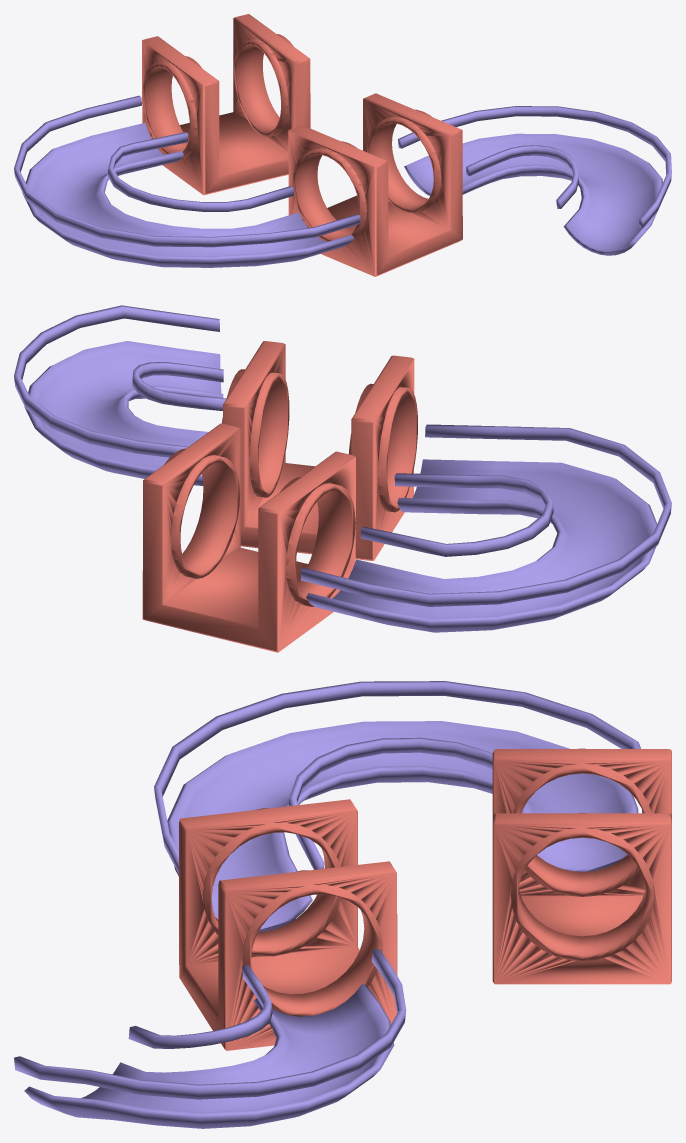
File: scen_III_spir_kostka+sciazka-modul.fbx
The picture shows the model from 3 angles, top to bottom: view 1: azimuth 30°, elevation 25°; view 2: azimuth 150°, elevation 25°; view 3: azimuth 270°, elevation 25°; orthographic projection. The views are drawn at different scales.
Parts seen in each view (by area): view 1: spir 01.035; view 2: spir 01.035; view 3: spir 01.035.
Boxes of the visible parts, x1,y1,x2,y2 form: spir 01.035: (14, 14, 671, 276); spir 01.035: (14, 305, 671, 652); spir 01.035: (14, 681, 671, 1128).
Size of the model in its own units: 1018 by 231 by 735.
